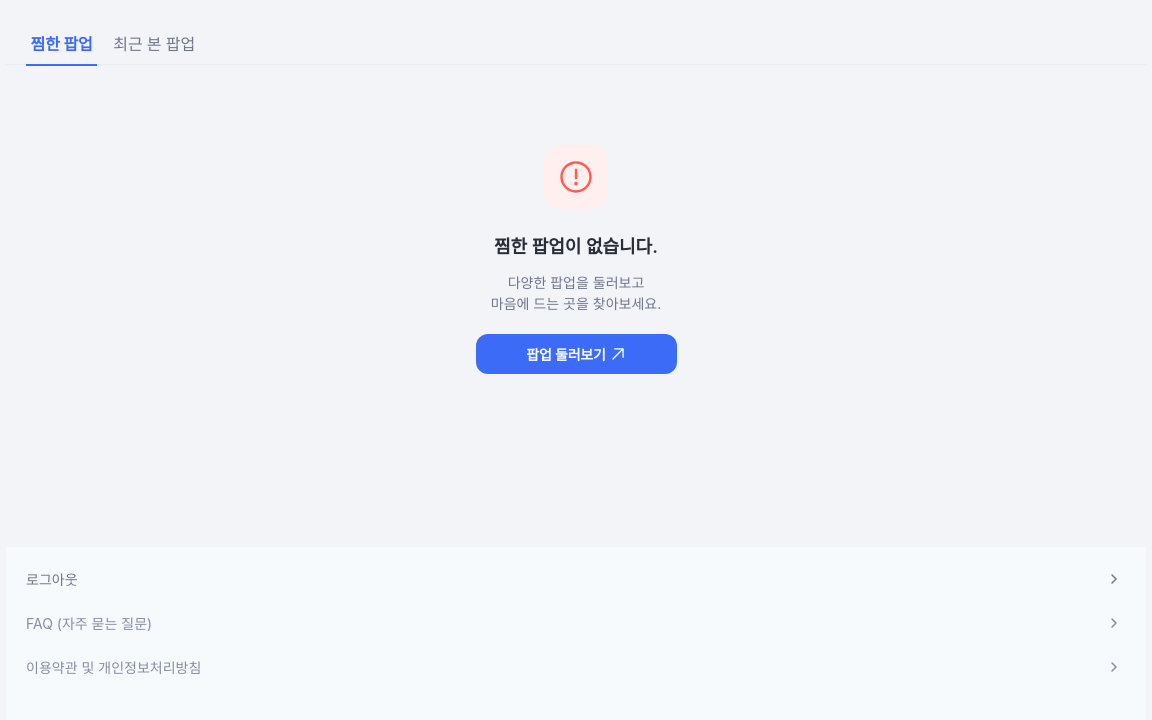
로그아웃 행은 확인 알럿을 띄우고 취소하면 로그아웃하지 않는다
Click the button "로그아웃" at (52, 579), box [6,557,1146,601]
(page scrolled)
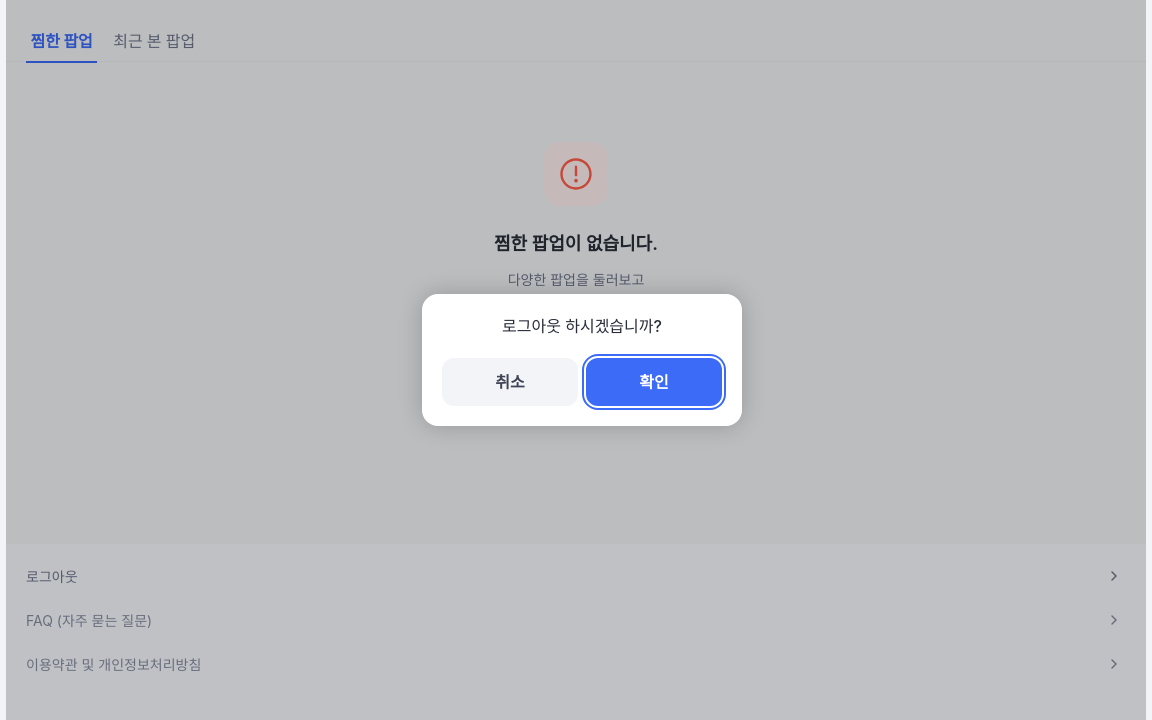
Now the text "로그아웃 하시겠습니까?" is shown, box [502,316,662,336]
Click the button "취소" at (510, 382), box [442,358,578,406]
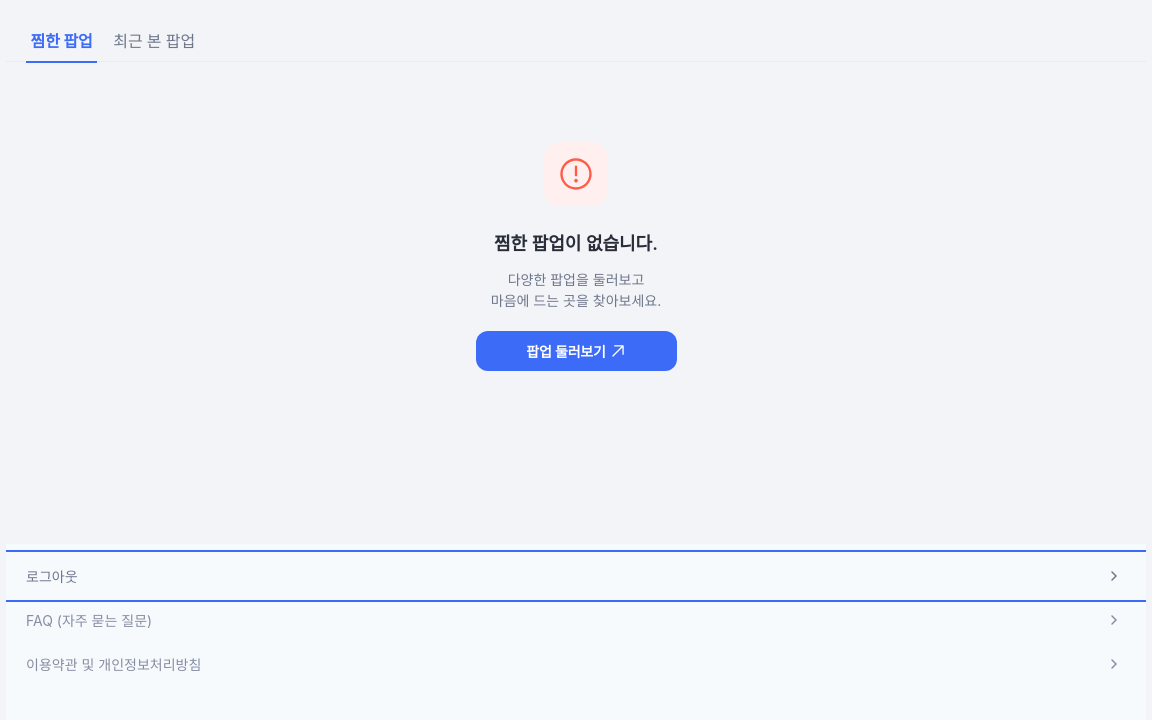
Expected: the tab "찜한 팝업" is shown, [26,21,97,61]
Now the dialog is gone
